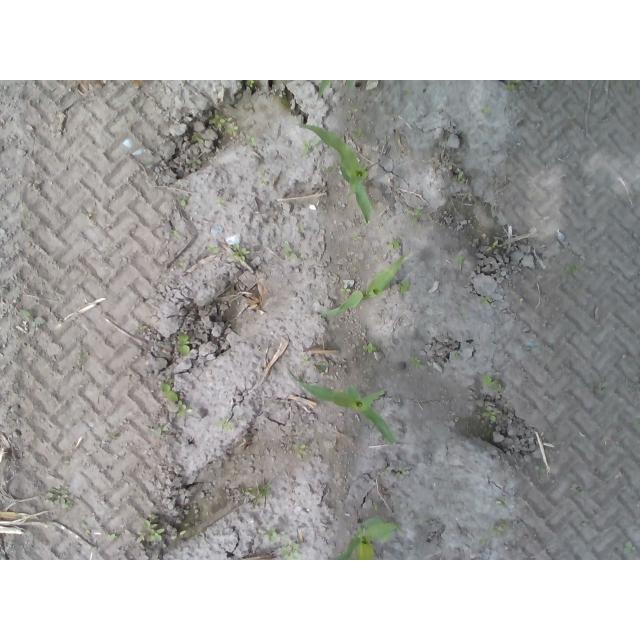Maize: (283, 365, 397, 448), (298, 119, 376, 226), (318, 254, 406, 319), (331, 513, 399, 559)
Weeds: (160, 382, 185, 415), (211, 114, 239, 138), (141, 518, 164, 544), (244, 480, 273, 500), (20, 308, 47, 328), (46, 487, 70, 508), (149, 423, 177, 441), (482, 373, 502, 392), (480, 405, 502, 422), (230, 246, 251, 263), (281, 544, 302, 561), (408, 204, 425, 223), (452, 167, 469, 186), (175, 334, 190, 355), (492, 519, 509, 537), (620, 539, 637, 557), (280, 246, 298, 261), (263, 526, 280, 541), (408, 356, 425, 370), (360, 339, 377, 353), (191, 132, 209, 145), (293, 443, 307, 458), (489, 239, 504, 253), (302, 139, 315, 155), (185, 157, 204, 167), (399, 277, 409, 295), (339, 282, 354, 294), (506, 81, 522, 92), (563, 263, 578, 274), (105, 532, 120, 541), (479, 292, 490, 304), (453, 255, 465, 266), (220, 419, 233, 429), (389, 239, 400, 250), (167, 227, 179, 237), (179, 200, 187, 209), (248, 80, 257, 88)
